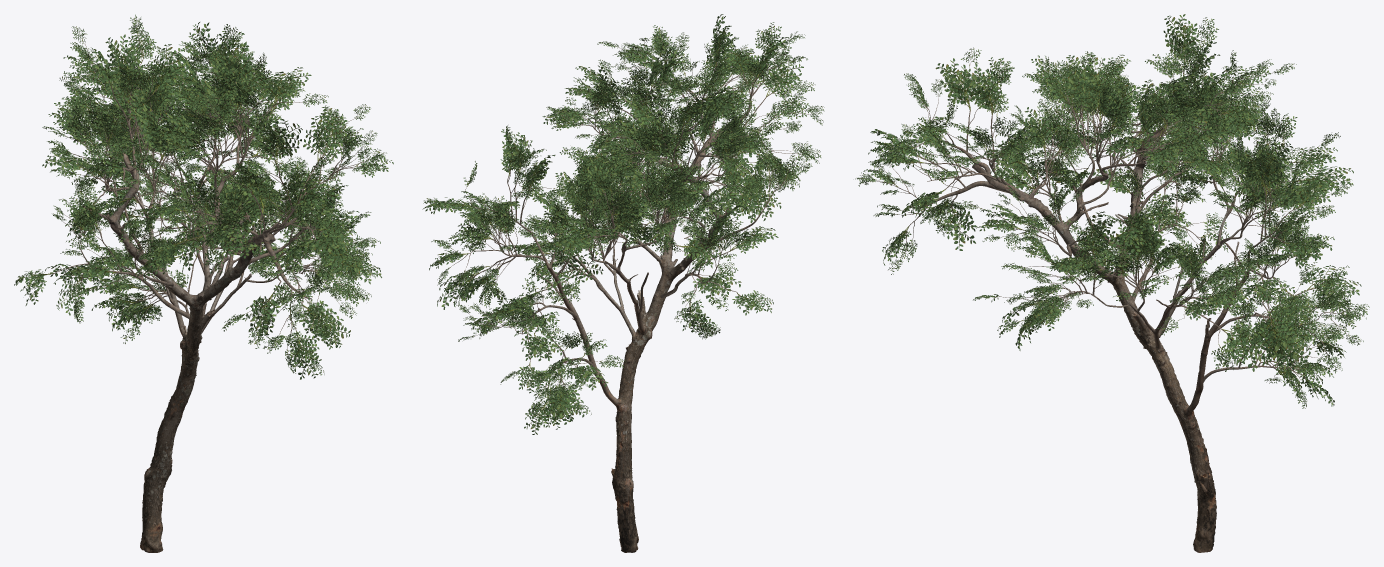
File: mature-tree-lod0.gltf
3 renders of one model, left to right at view 1: azimuth 30°, elevation 25°; view 2: azimuth 150°, elevation 25°; view 3: azimuth 270°, elevation 25°, orthographic. The views are drawn at different scales.
Parts seen in each view (by area): view 1: tree_small_02_LOD0; view 2: tree_small_02_LOD0; view 3: tree_small_02_LOD0.
Part boxes in pixels (x1=…): tree_small_02_LOD0: x1=14, y1=14, x2=393, y2=552; tree_small_02_LOD0: x1=422, y1=14, x2=824, y2=552; tree_small_02_LOD0: x1=855, y1=14, x2=1369, y2=552.
Size of the model in its own units: 2.92 by 4.56 by 4.29.
3 materials, 3 textured.
